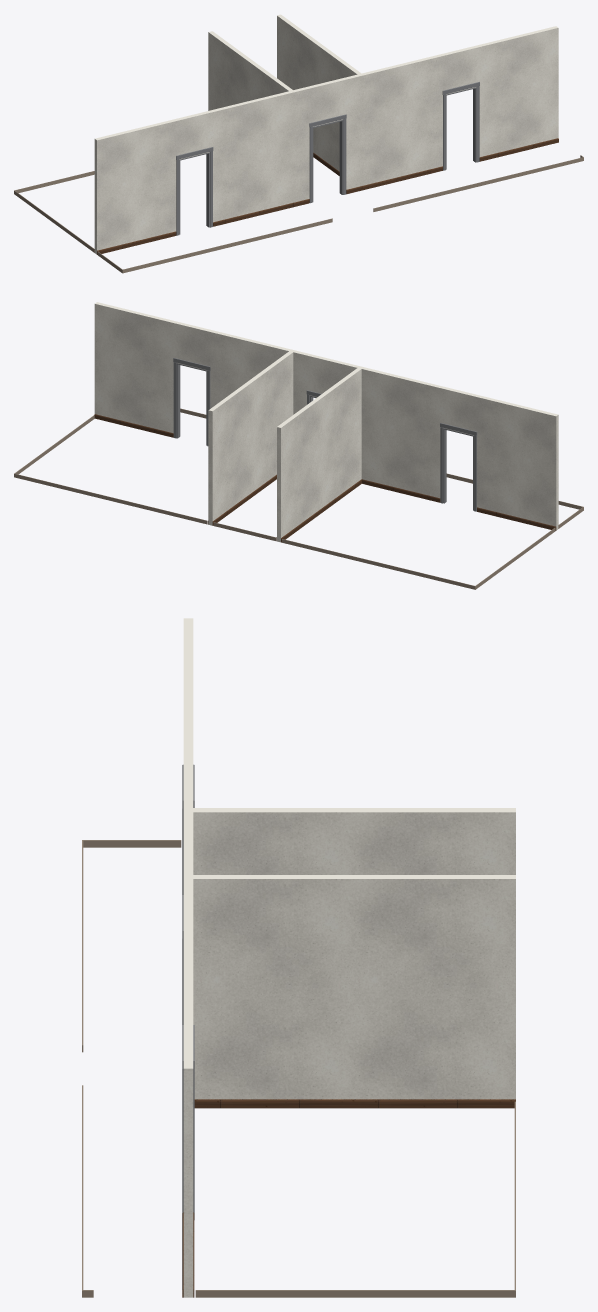
Rendered from bs_plan.glb.
The picture shows the model from 3 angles, top to bottom: view 1: azimuth 30°, elevation 25°; view 2: azimuth 150°, elevation 25°; view 3: azimuth 270°, elevation 25°; orthographic projection. The views are drawn at different scales.
Visible parts, largest first — view 1: bs_plan_plaster, bs_plan_frame, bs_plan_trim, bs_plan_dkwood; view 2: bs_plan_plaster, bs_plan_trim, bs_plan_frame, bs_plan_dkwood; view 3: bs_plan_plaster, bs_plan_trim, bs_plan_dkwood, bs_plan_frame.
Part boxes in pixels (x1=…): bs_plan_plaster: x1=94, y1=14, x2=558, y2=254; bs_plan_frame: x1=176, y1=82, x2=479, y2=235; bs_plan_trim: x1=14, y1=155, x2=583, y2=273; bs_plan_dkwood: x1=94, y1=138, x2=558, y2=254; bs_plan_plaster: x1=94, y1=302, x2=558, y2=542; bs_plan_trim: x1=14, y1=408, x2=583, y2=589; bs_plan_frame: x1=173, y1=358, x2=477, y2=511; bs_plan_dkwood: x1=94, y1=414, x2=558, y2=542; bs_plan_plaster: x1=183, y1=618, x2=515, y2=1297; bs_plan_trim: x1=82, y1=840, x2=515, y2=1297; bs_plan_dkwood: x1=182, y1=1099, x2=515, y2=1297; bs_plan_frame: x1=182, y1=764, x2=194, y2=1219.
Size of the model in its own units: 13.5 by 3.2 by 5.5.
Materials: 4 (2 with a texture image).
